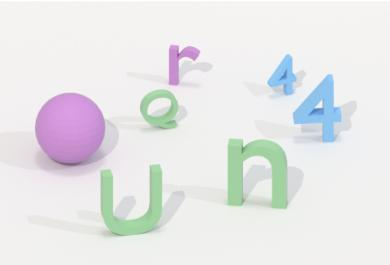0-Tron: (32, 89, 109, 167)
4: (293, 75, 345, 146), (260, 48, 302, 99)
Q: (135, 86, 187, 134)
U: (92, 159, 168, 238)
n: (219, 131, 295, 214)
r: (163, 39, 203, 89)
